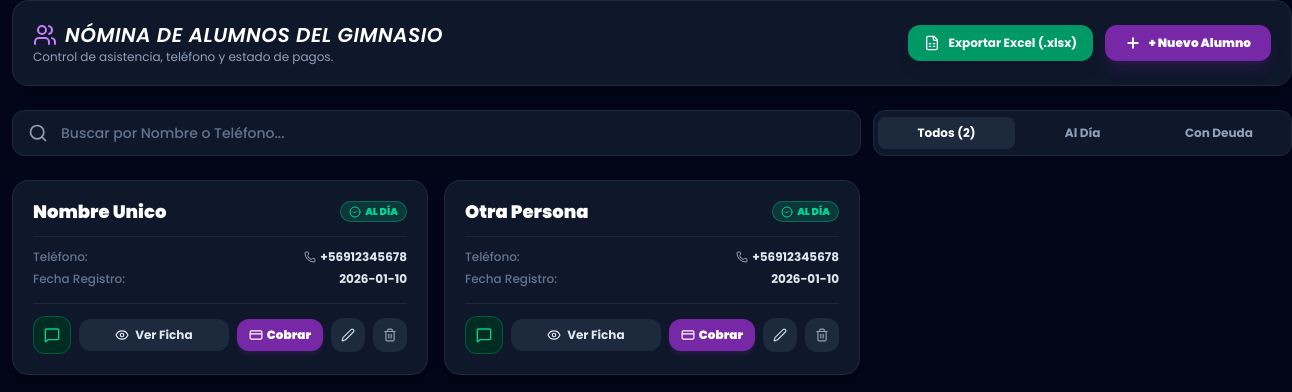
Test case: StudentsTab › filters students by name via search
Type "Nombre Unico" into the field with placeholder "Buscar por Nombre o Teléfono...".
click(437, 133); type("Nombre Unico")  # box [12,110,861,156]
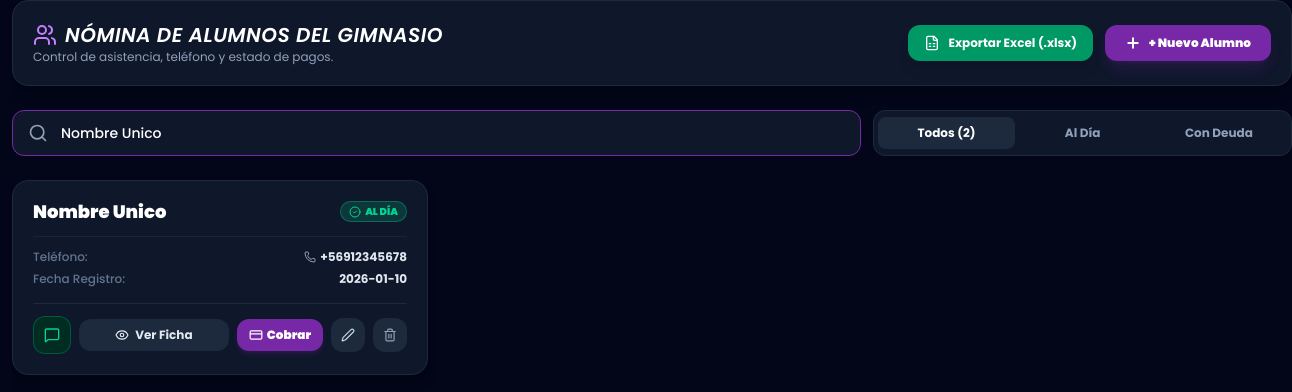
Expected: the heading "Nombre Unico" is shown, [33,201,166,224]
Expected: the heading "Otra Persona" is gone
